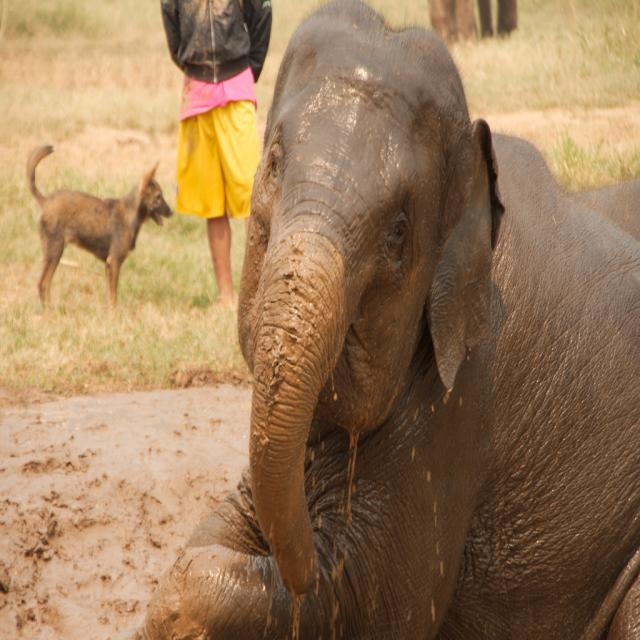elephant: (132, 0, 640, 639)
